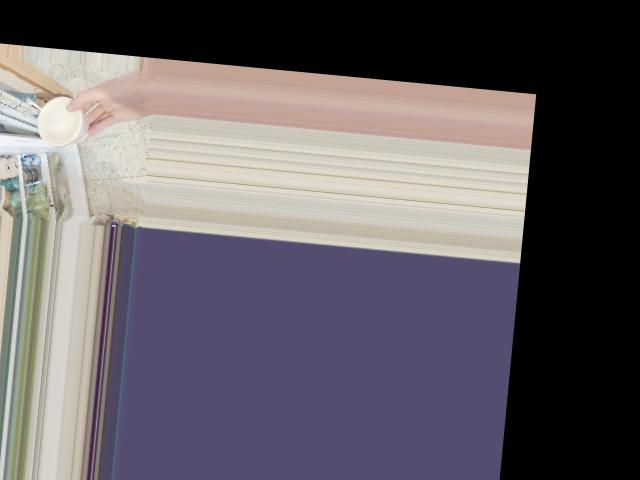cotage: (37, 99, 88, 147)
